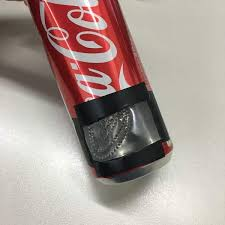Metal: (28, 0, 173, 185)
